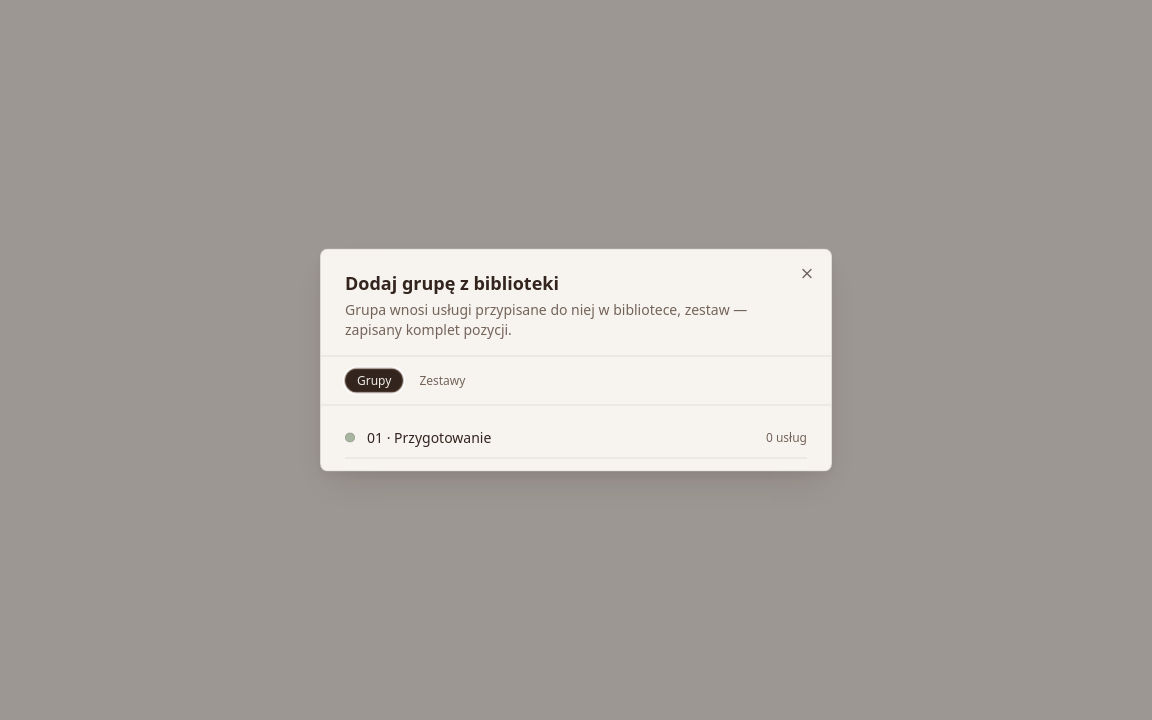
GroupFromLibraryDialog — grupa ze słownika › pusta grupa słownika mówi o tym wprost, zamiast udawać listę
Click the button "01 · Przygotowanie 0 usług": (429, 437) [345,418,807,458]
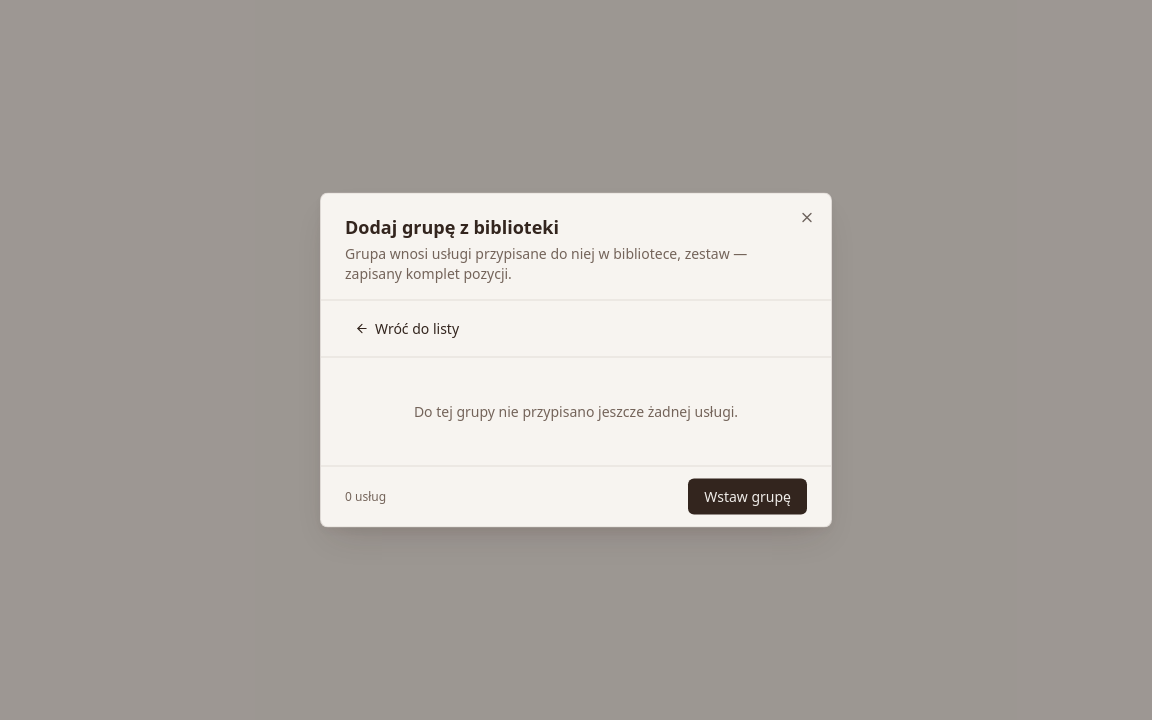
Now the text "Do tej grupy nie przypisano jeszcze żadnej usługi." is shown, box [414,402,738,420]
